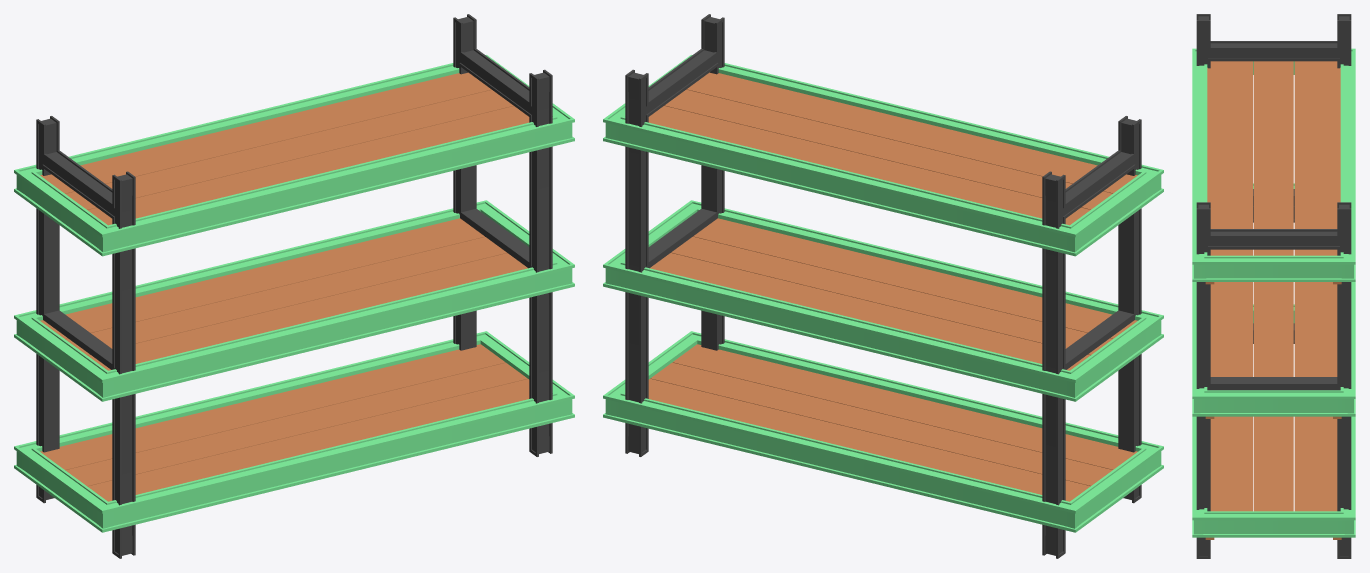
File: Props_BoxShelf_Green.fbx
3 views of the same model, side by side, from view 1: azimuth 30°, elevation 25°; view 2: azimuth 150°, elevation 25°; view 3: azimuth 270°, elevation 25° (orthographic). The views are drawn at different scales.
Parts seen in each view (by area): view 1: Props_BoxShelf_Green; view 2: Props_BoxShelf_Green; view 3: Props_BoxShelf_Green.
Part boxes in pixels (x1,y1,x2,y2): Props_BoxShelf_Green: [14, 14, 574, 558]; Props_BoxShelf_Green: [603, 14, 1163, 558]; Props_BoxShelf_Green: [1192, 14, 1355, 558].
Bounding box in the file's own units: 340 × 260 × 110.
